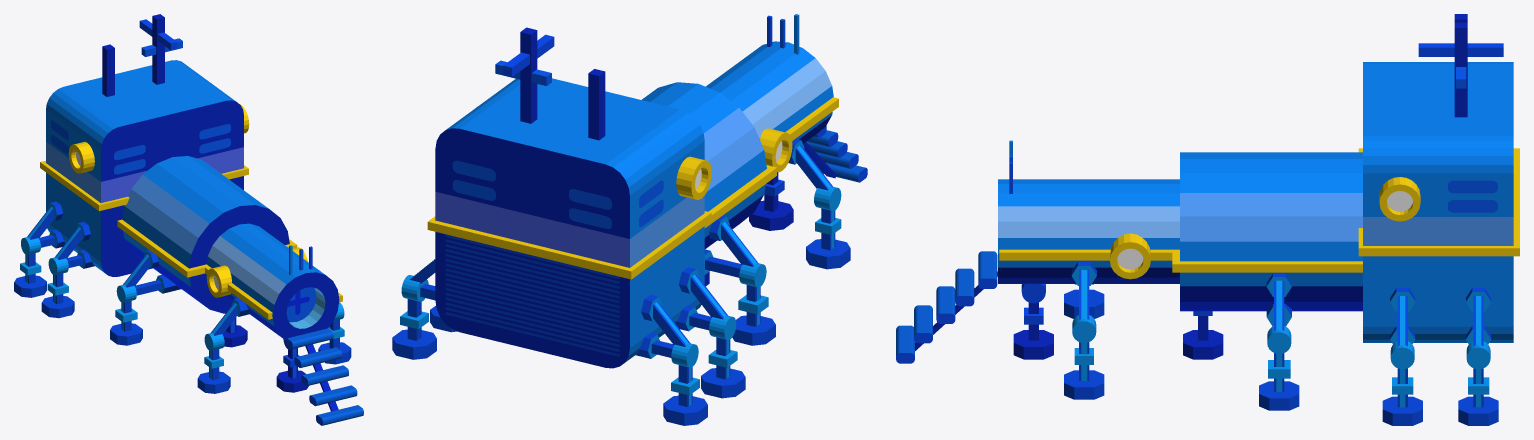
The model's file is Building_038.fbx.
3 views of the same model, side by side, from view 1: azimuth 30°, elevation 25°; view 2: azimuth 150°, elevation 25°; view 3: azimuth 270°, elevation 25° (orthographic). The views are drawn at different scales.
Parts seen in each view (by area): view 1: Building_038; view 2: Building_038; view 3: Building_038.
Boxes of the visible parts, box(x1,y1,x2,y2) form: Building_038: box(14, 14, 363, 425); Building_038: box(392, 14, 867, 425); Building_038: box(896, 14, 1519, 425).
Size of the model in its own units: 27.85 by 29.49 by 48.97.
